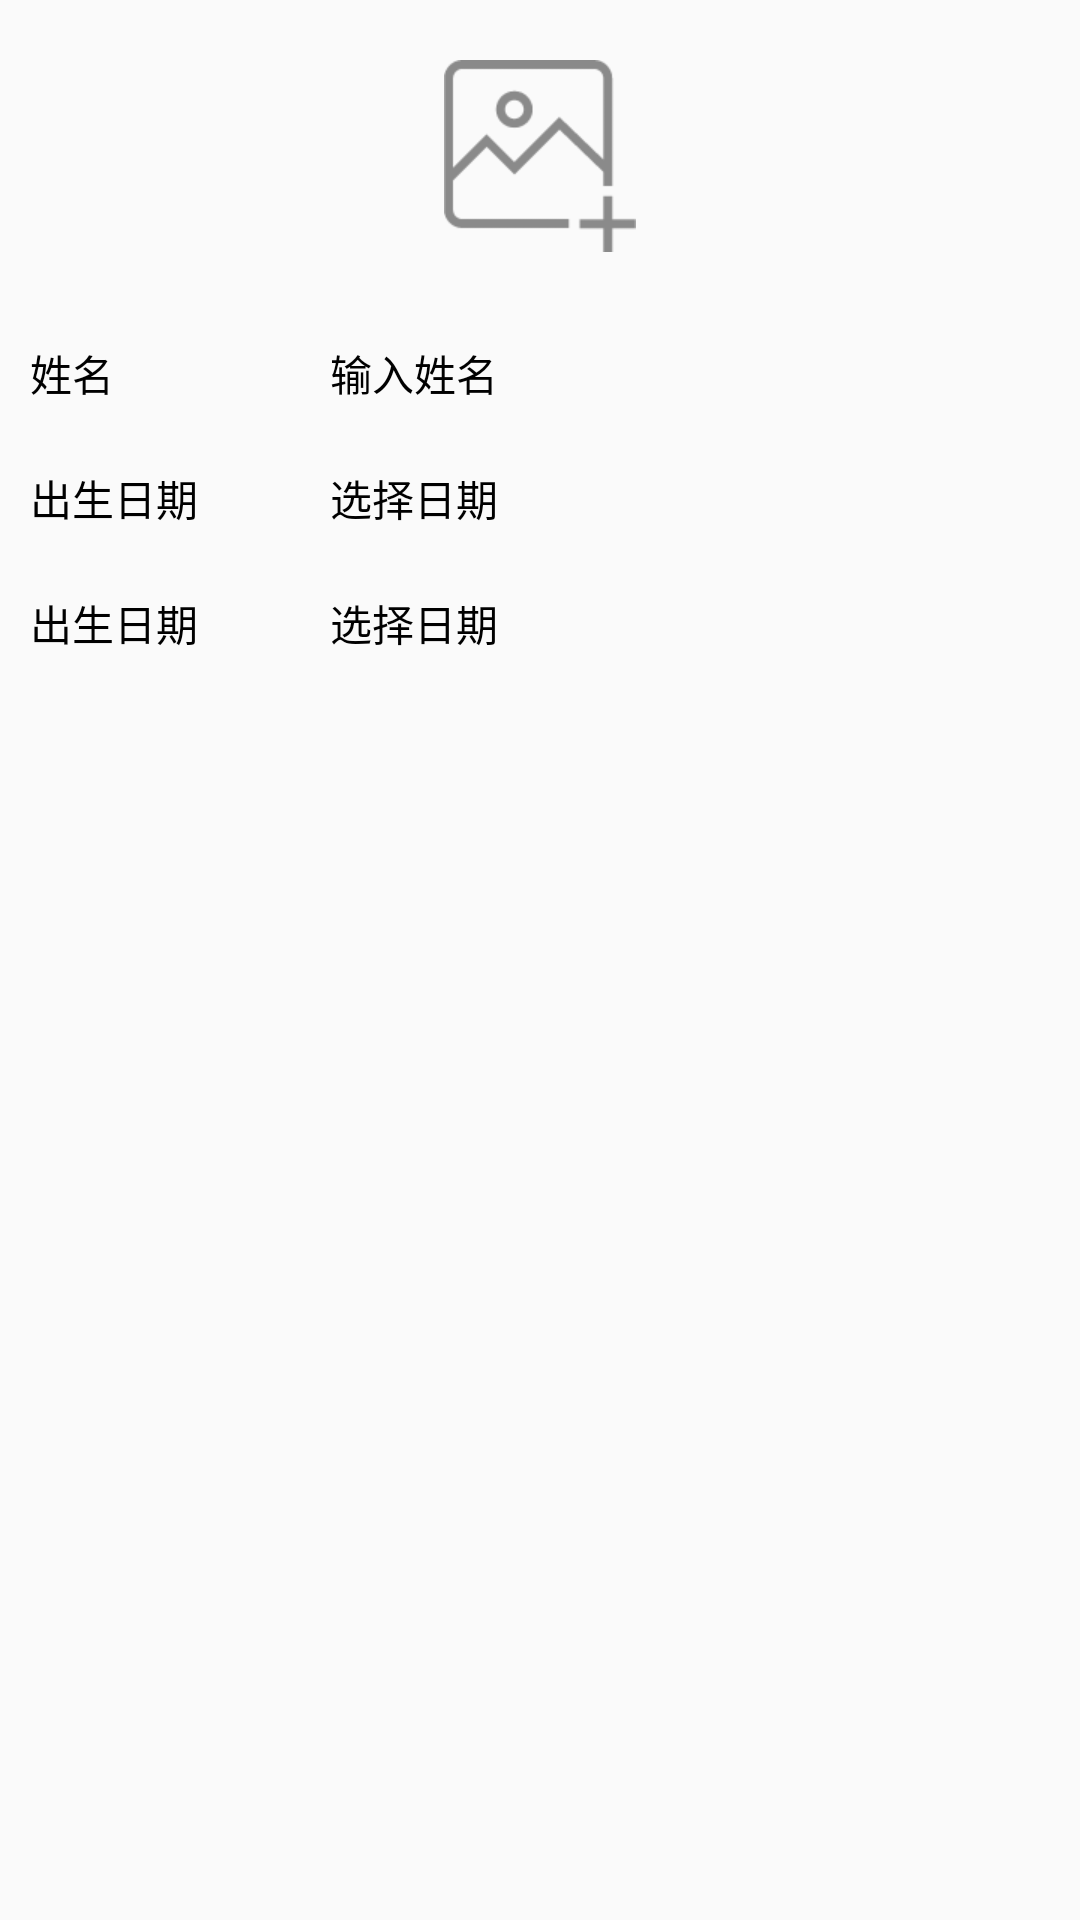

Where icons sit on this 1080w x 1920h app screen, as (x1, y1, x2, y2):
add head: (444, 60, 636, 252)
